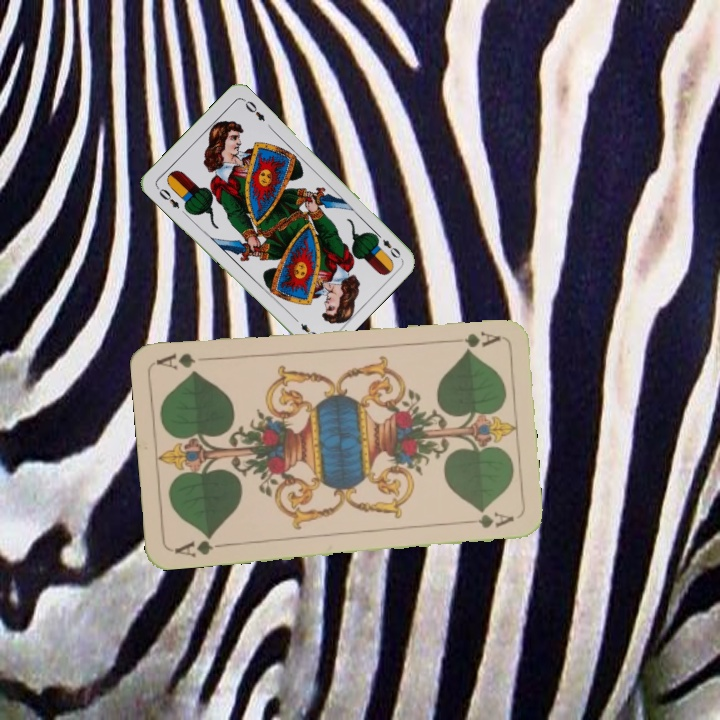EO: (371, 228, 403, 261), (153, 183, 182, 211)
GA: (170, 531, 229, 560), (444, 327, 503, 350)
